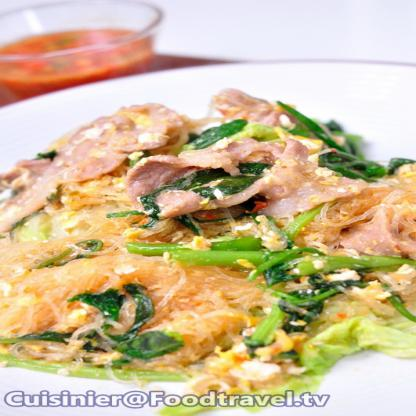Suki: (0, 64, 408, 390)
